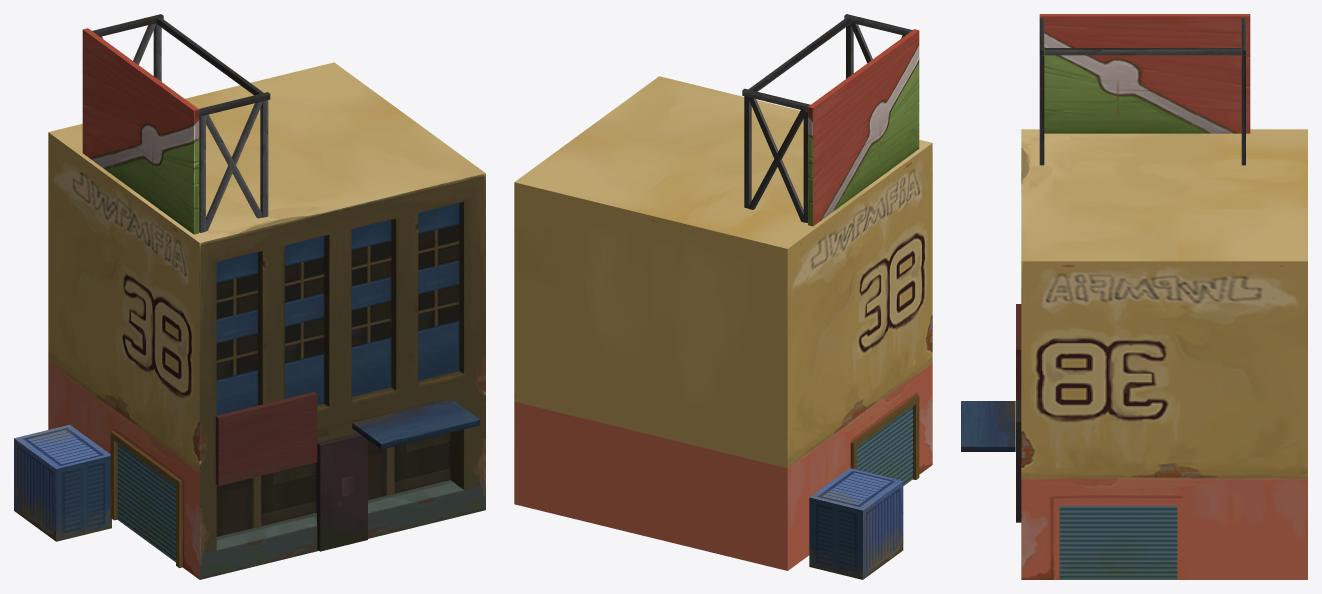
The picture shows the model from 3 angles, left to right: view 1: azimuth 30°, elevation 25°; view 2: azimuth 150°, elevation 25°; view 3: azimuth 270°, elevation 25°; orthographic projection. The views are drawn at different scales.
Parts seen in each view (by area): view 1: wj_fz04, wj_fz04_1, wj_hct01, wj_fz04_2; view 2: wj_fz04, wj_fz04_1, wj_fz04_2; view 3: wj_fz04, wj_fz04_1, wj_hct01.
Boxes of the visible parts, bbox=[...] form: wj_fz04: bbox=[48, 62, 485, 579]; wj_fz04_1: bbox=[82, 14, 270, 234]; wj_hct01: bbox=[215, 392, 479, 551]; wj_fz04_2: bbox=[14, 424, 111, 541]; wj_fz04: bbox=[514, 76, 932, 570]; wj_fz04_1: bbox=[742, 14, 919, 226]; wj_fz04_2: bbox=[809, 468, 903, 579]; wj_fz04: bbox=[1021, 129, 1307, 579]; wj_fz04_1: bbox=[1039, 14, 1250, 165]; wj_hct01: bbox=[961, 304, 1021, 522].
Size of the model in its own units: 181 by 168 by 239.
